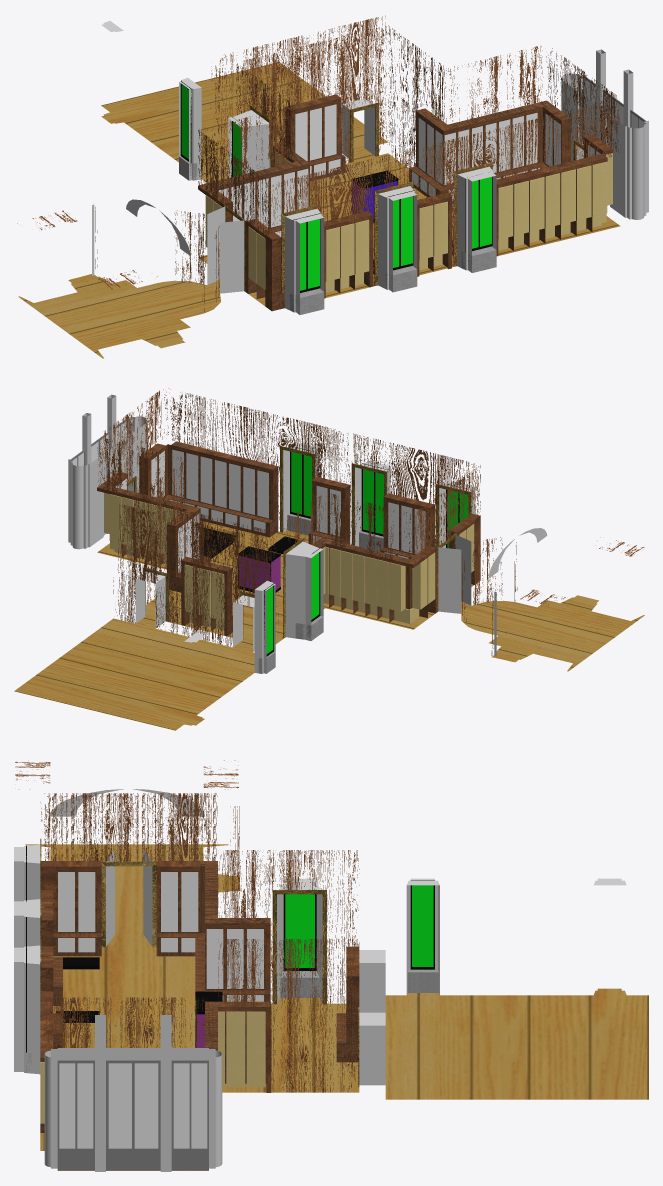
File: armeriaReale.obj
The picture shows the model from 3 angles, top to bottom: view 1: azimuth 30°, elevation 25°; view 2: azimuth 150°, elevation 25°; view 3: azimuth 270°, elevation 25°; orthographic projection. The views are drawn at different scales.
Bounding box in the file's own units: 35.35 × 7.79 × 28.95.
13 materials, 6 textured.
